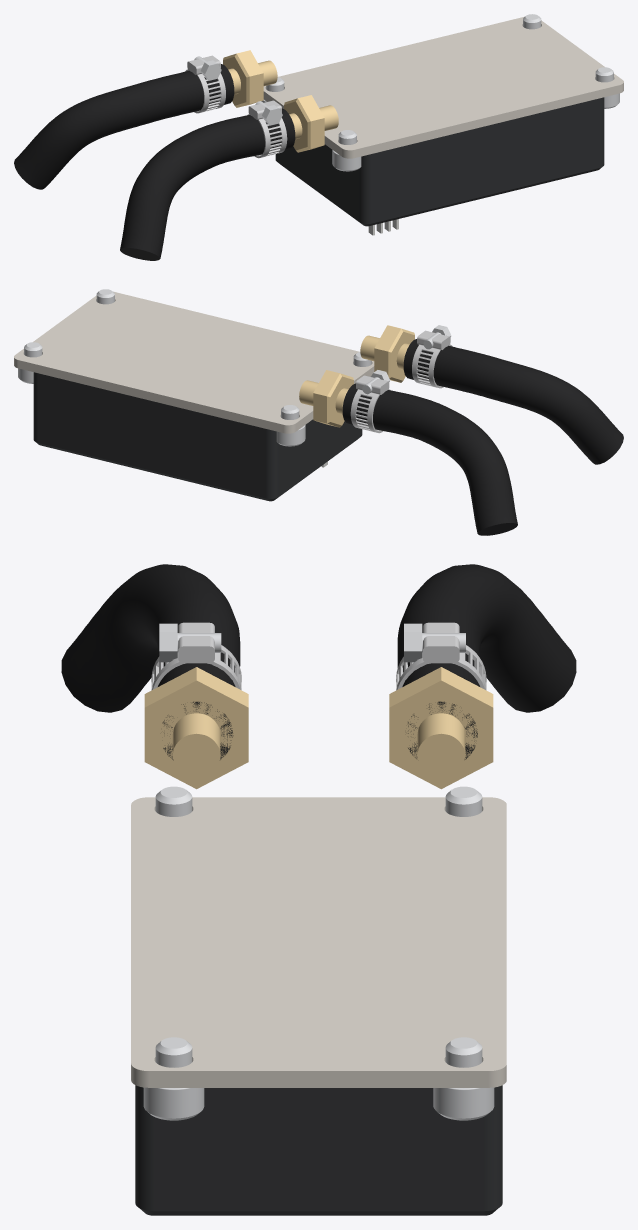
File: plumbing.glb
3 views of the same model, one above another, from view 1: azimuth 30°, elevation 25°; view 2: azimuth 150°, elevation 25°; view 3: azimuth 270°, elevation 25° (orthographic). The views are drawn at different scales.
Parts seen in each view (by area): view 1: igbt_module, port_2, port_1; view 2: igbt_module, port_1, port_2; view 3: igbt_module, port_2, port_1.
Boxes of the visible parts, x1,y1,x2,y2 form: igbt_module: [261, 14, 623, 235]; port_2: [14, 50, 277, 189]; port_1: [120, 95, 338, 260]; igbt_module: [14, 289, 374, 501]; port_1: [360, 325, 623, 464]; port_2: [299, 370, 517, 535]; igbt_module: [131, 786, 506, 1215]; port_2: [389, 564, 576, 789]; port_1: [61, 564, 248, 789].
Bounding box in the file's own units: 193 × 57.14 × 84.2.
